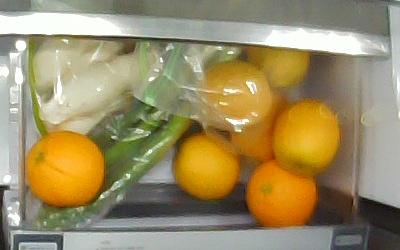orange: (24, 132, 104, 208), (272, 99, 342, 174), (246, 158, 318, 225), (172, 130, 240, 199)
orange_vinyl: (193, 60, 271, 130), (243, 45, 312, 88)
